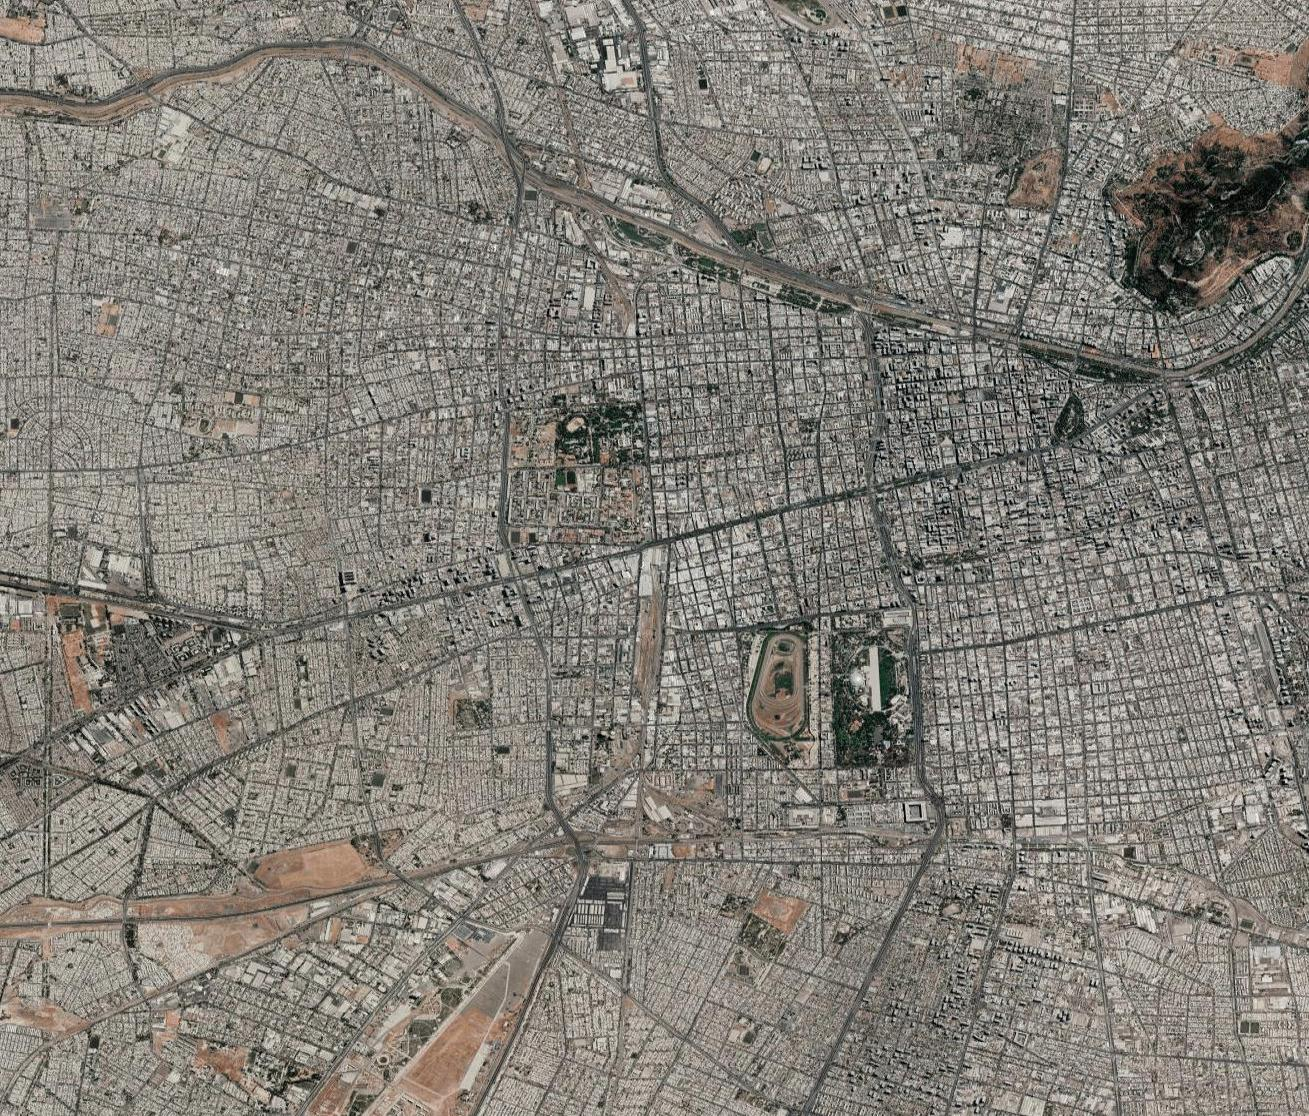train_station: (632, 544, 668, 631)
